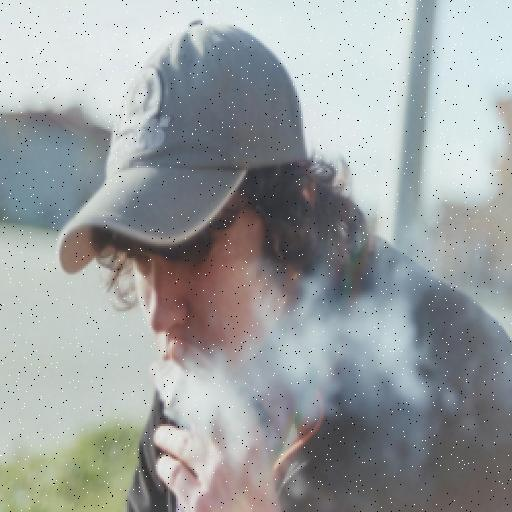dataset-deteksi-merokok: (104, 235, 278, 496)
